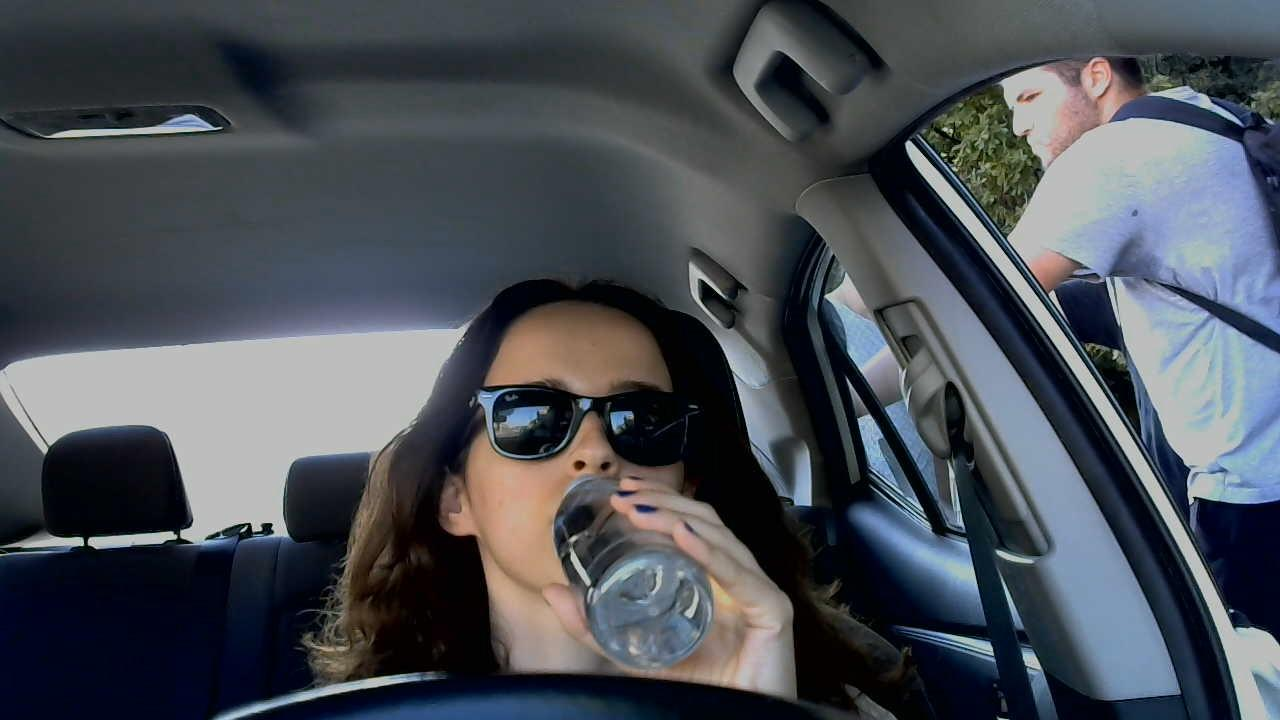Drinking: (436, 300, 746, 671)
